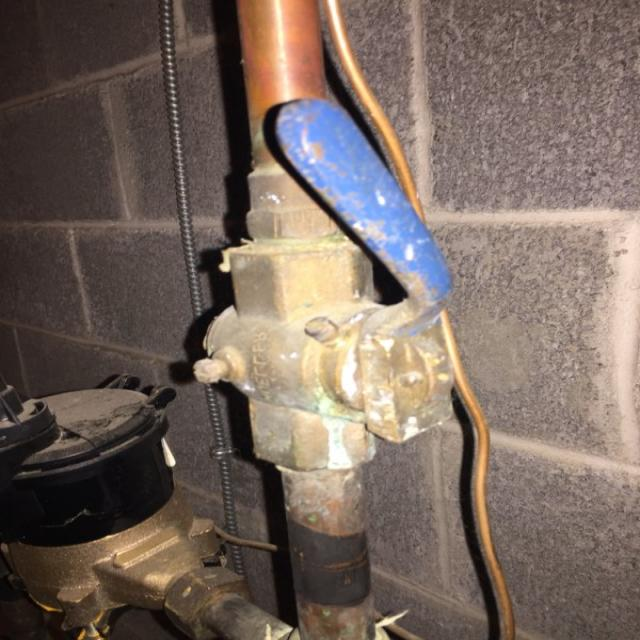Lever Handle Valve Threaded: (191, 92, 454, 476)
